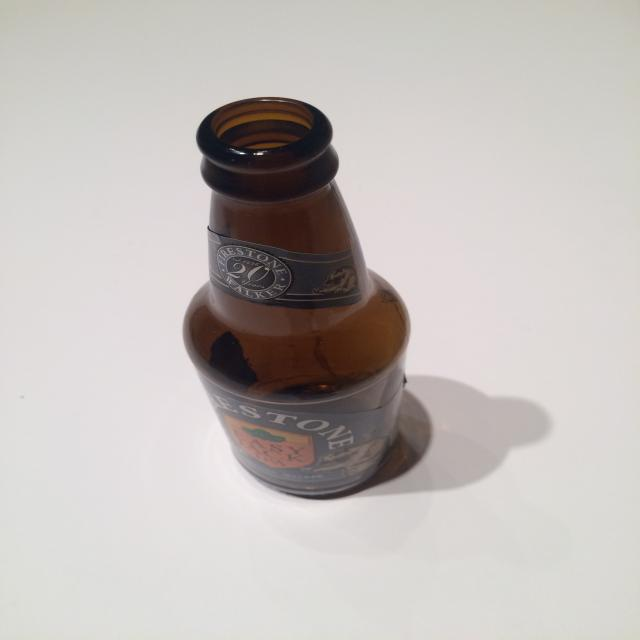glass: (181, 95, 418, 499)
